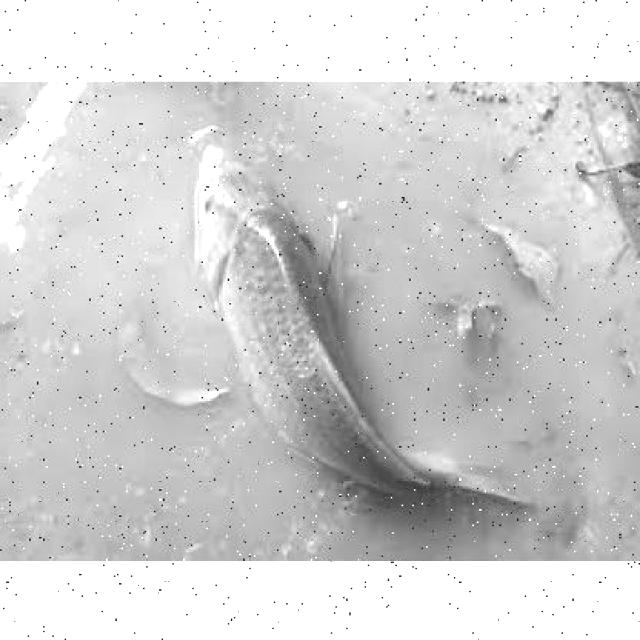ikan-mas: (185, 132, 530, 518)
